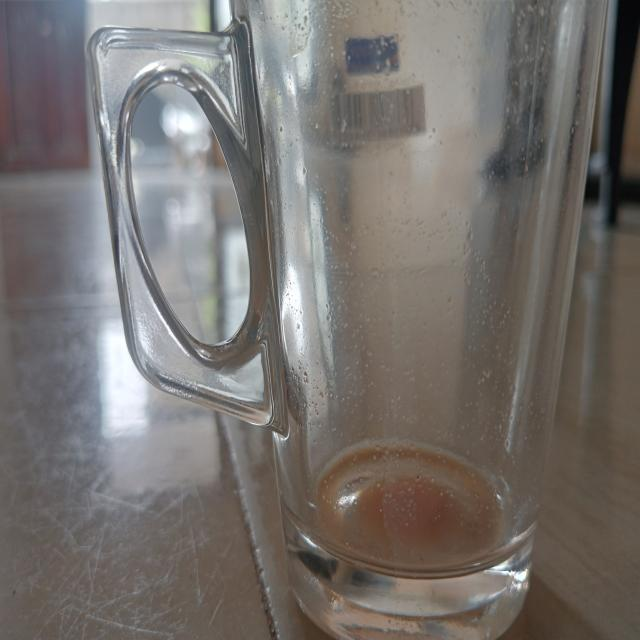glass-VX4N: (87, 0, 611, 640)
